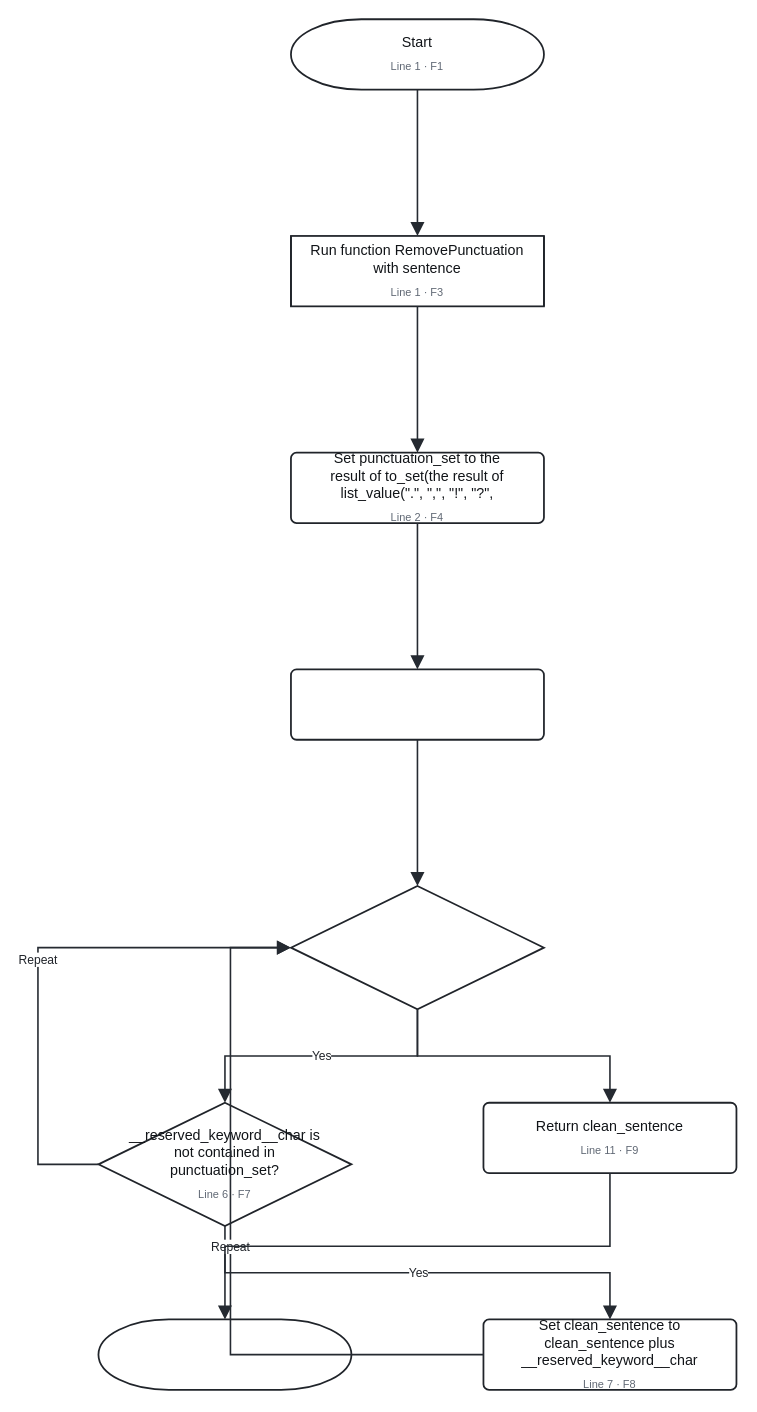
Image size: 757x1412. Some labels were removed from this diagram. Here are the shapes that lost their labels. From the top down, the centre of each, then its label:
At [417,704]: "Set clean_sentence to an empty string Line 3 · F5".
At [417,947]: "For each __reserved_keyword__char in sentence Line 5 · F6".
At [224,1354]: "End Line 1 · F2".
